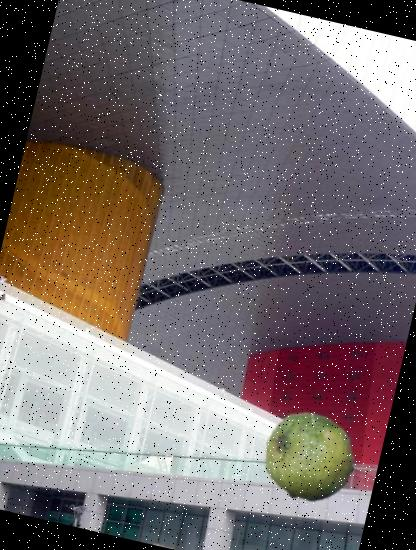Limes: (254, 402, 364, 512)
